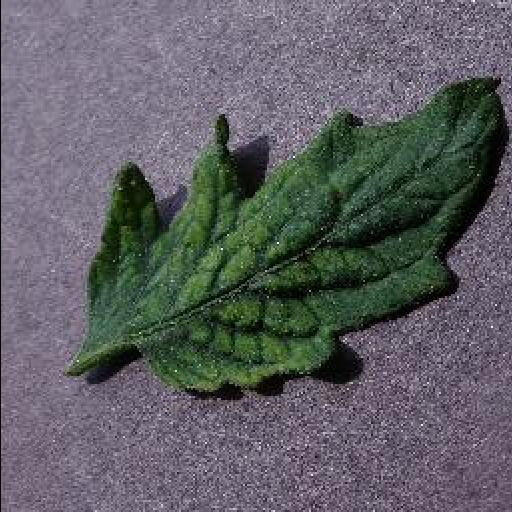disease_tomato: (89, 77, 511, 399)
